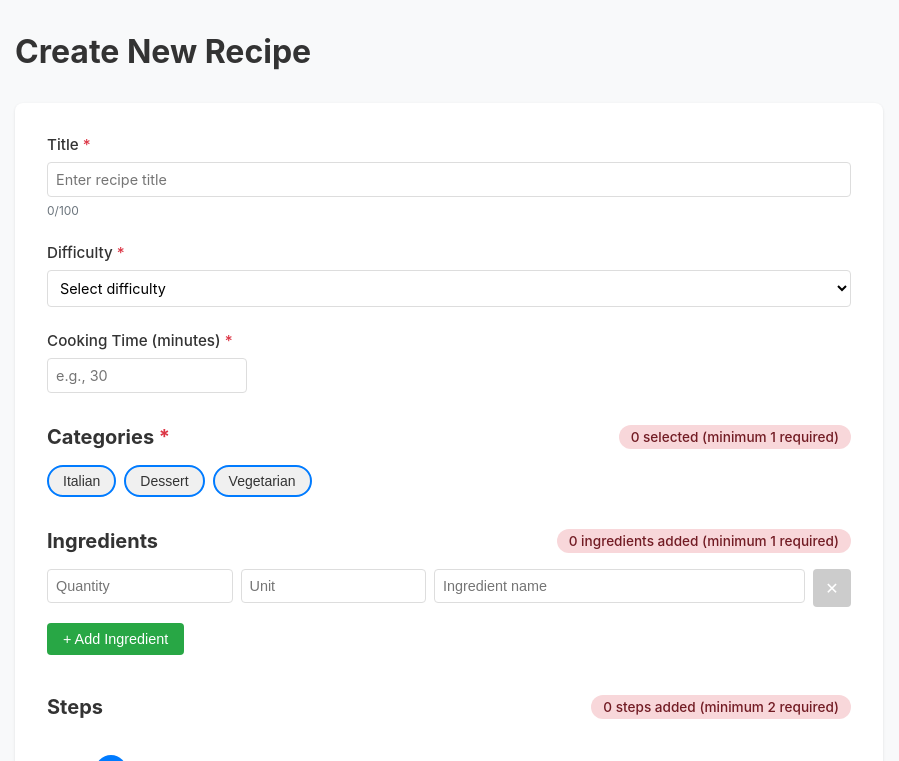
CreateRecipeView › Ingredients Section › validates at least one ingredient is required on submit
Type "Test Recipe" into the field labelled "Title *" at (449, 180), box [47,162,851,197]
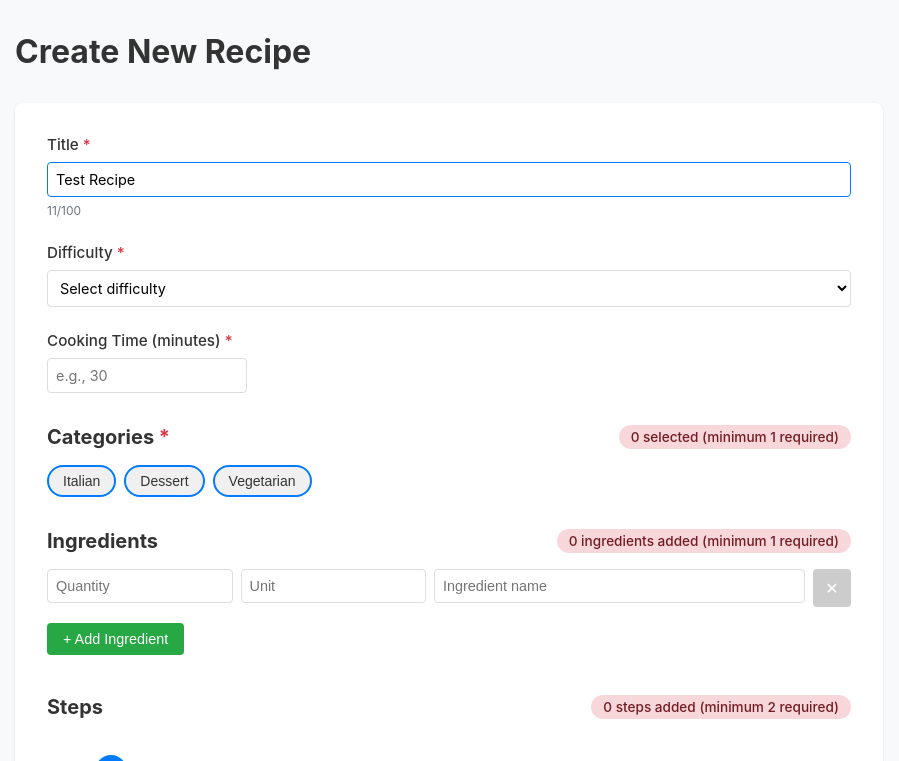
Select "Easy" in the dropdown labelled "Difficulty *" at (449, 288), box [47,270,851,307]
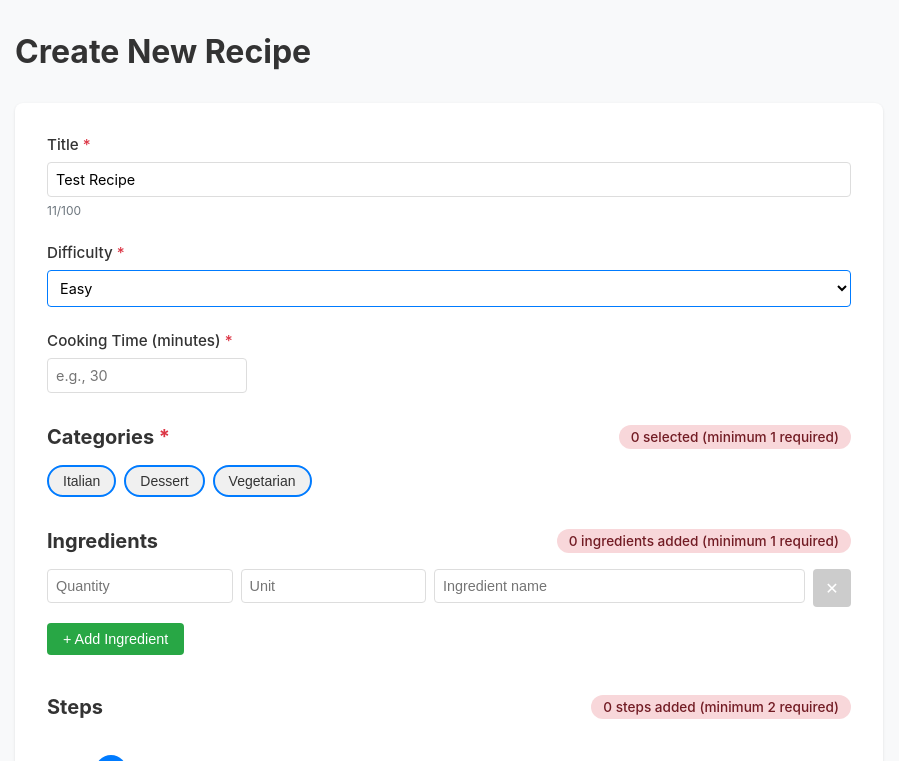
Type "30" into the number field labelled "Cooking Time (minutes) *" at (147, 376), box [47,358,247,393]
(page scrolled)
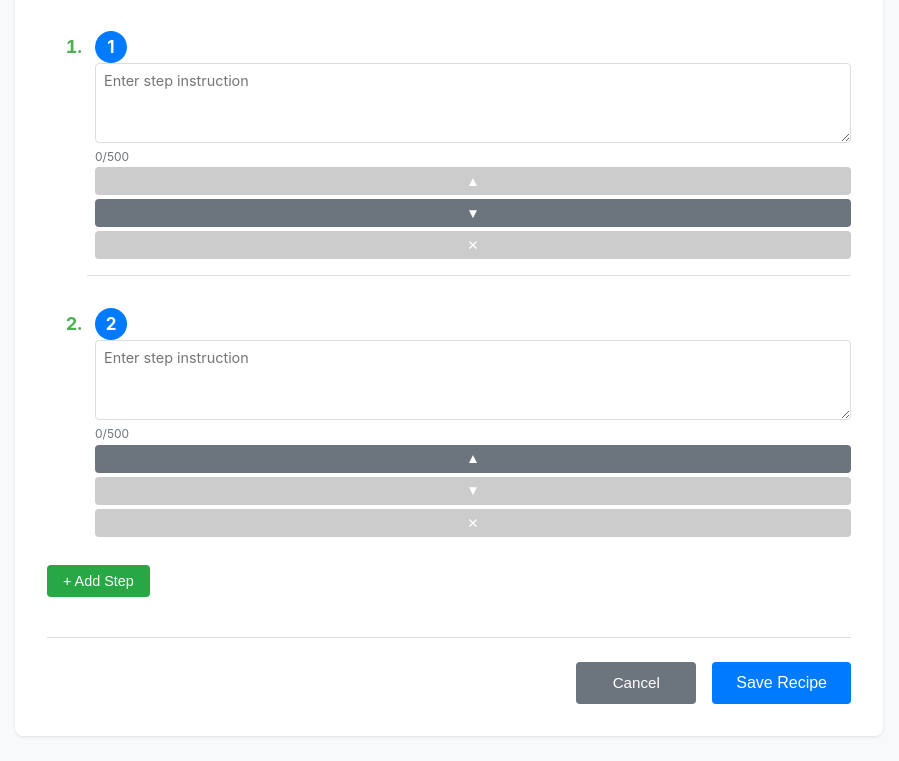
Click the button "Save Recipe" at (782, 683), box [712,662,851,704]
(page scrolled)
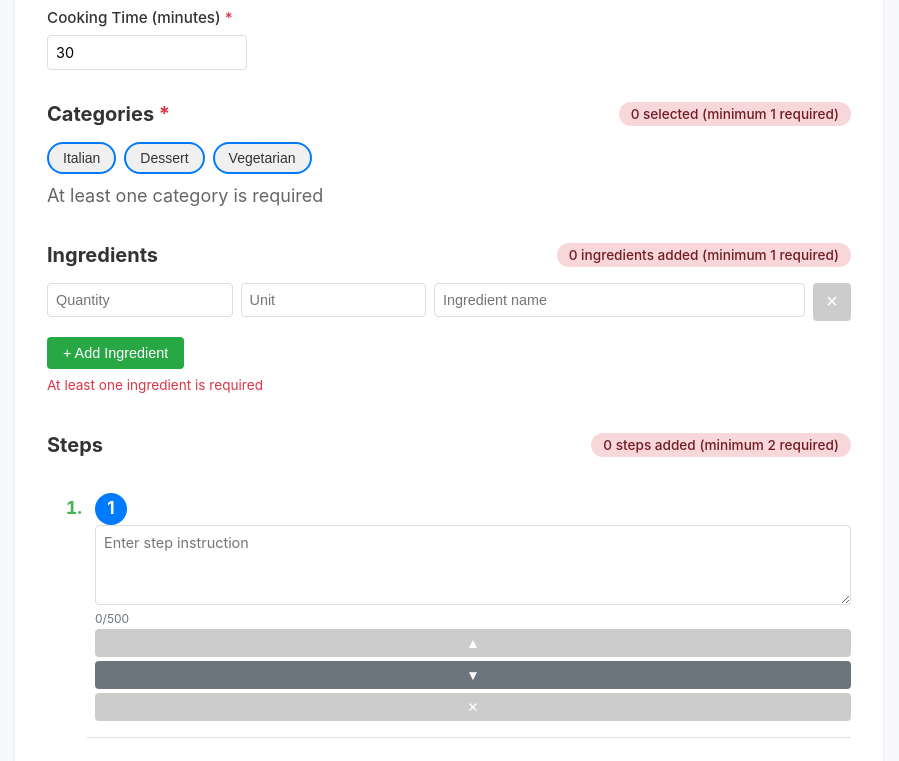
Result: the text "At least one ingredient is required" is shown at [47,377,263,393]
